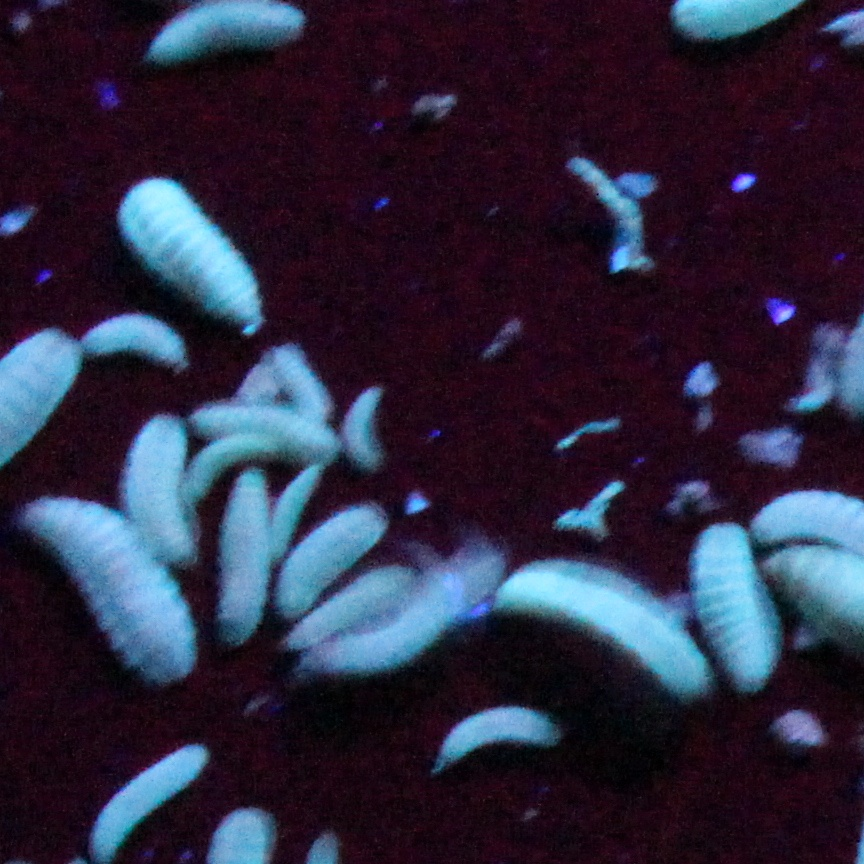larve: (504, 553, 721, 695), (23, 501, 181, 670), (293, 547, 503, 674), (117, 171, 264, 318), (189, 475, 263, 654), (263, 507, 379, 621), (694, 521, 774, 667), (189, 402, 354, 470), (129, 417, 193, 579), (430, 700, 567, 774), (285, 564, 409, 645), (253, 458, 319, 577), (152, 431, 301, 477), (332, 373, 383, 475), (269, 342, 338, 416), (82, 324, 190, 364)
